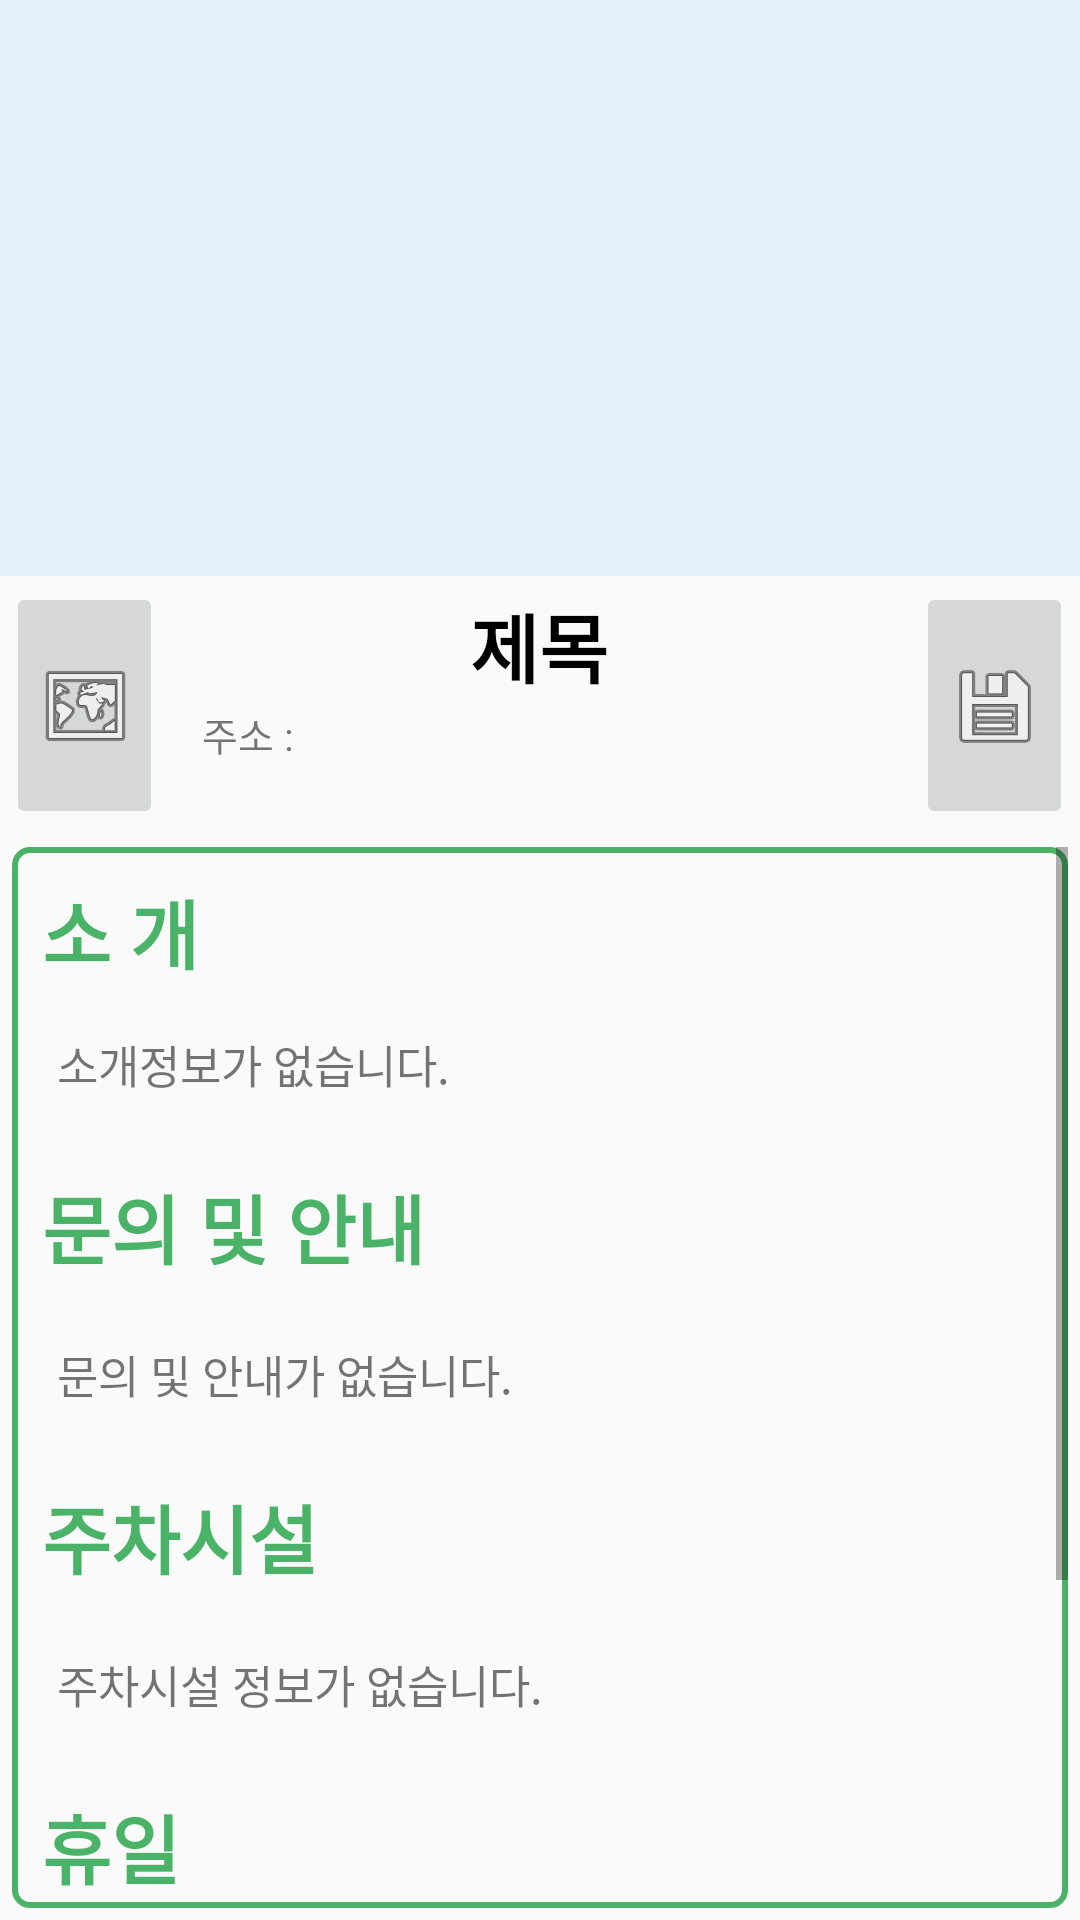

Named icons in this screenshot (1080px×1920px) and their centers, (x=x, y=y):
mapmode: (x=84, y=705)
save: (x=994, y=705)
